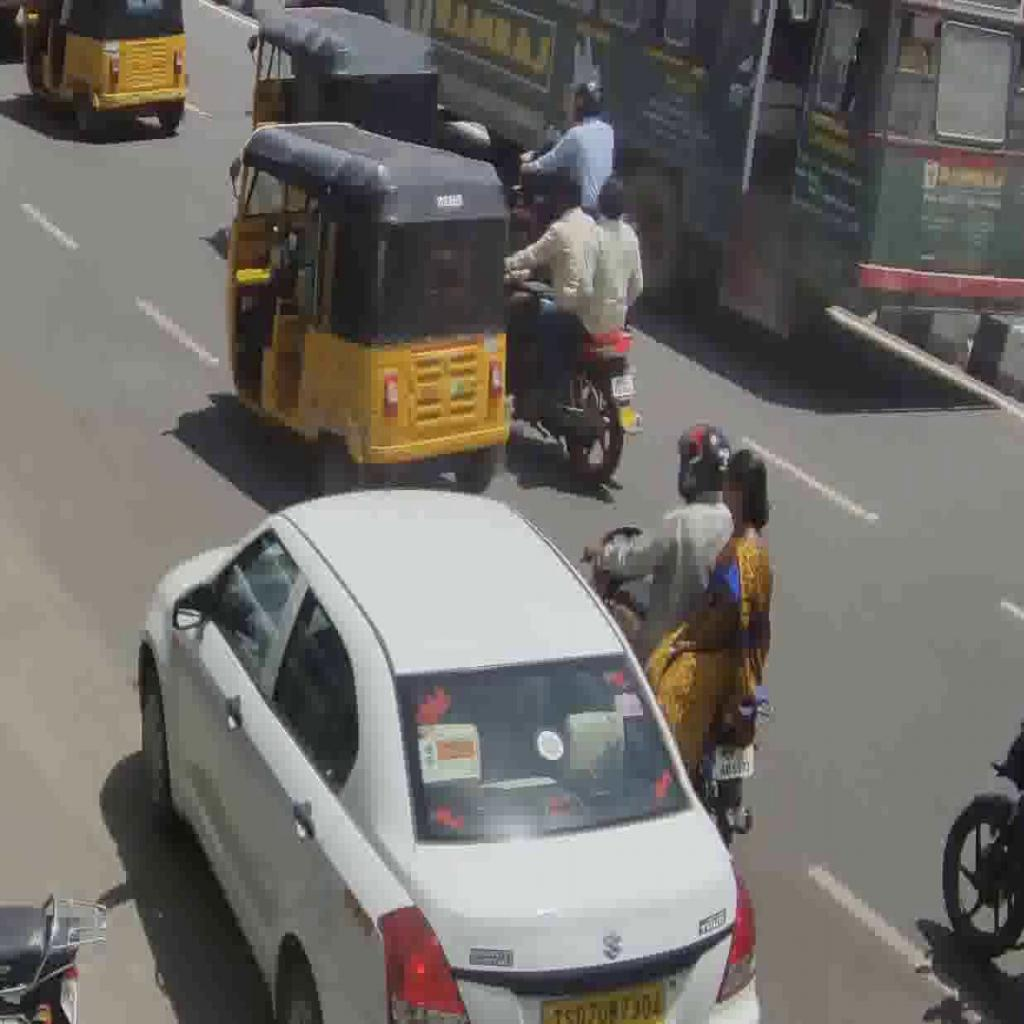helmet: (589, 521, 765, 856), (501, 250, 640, 479)
